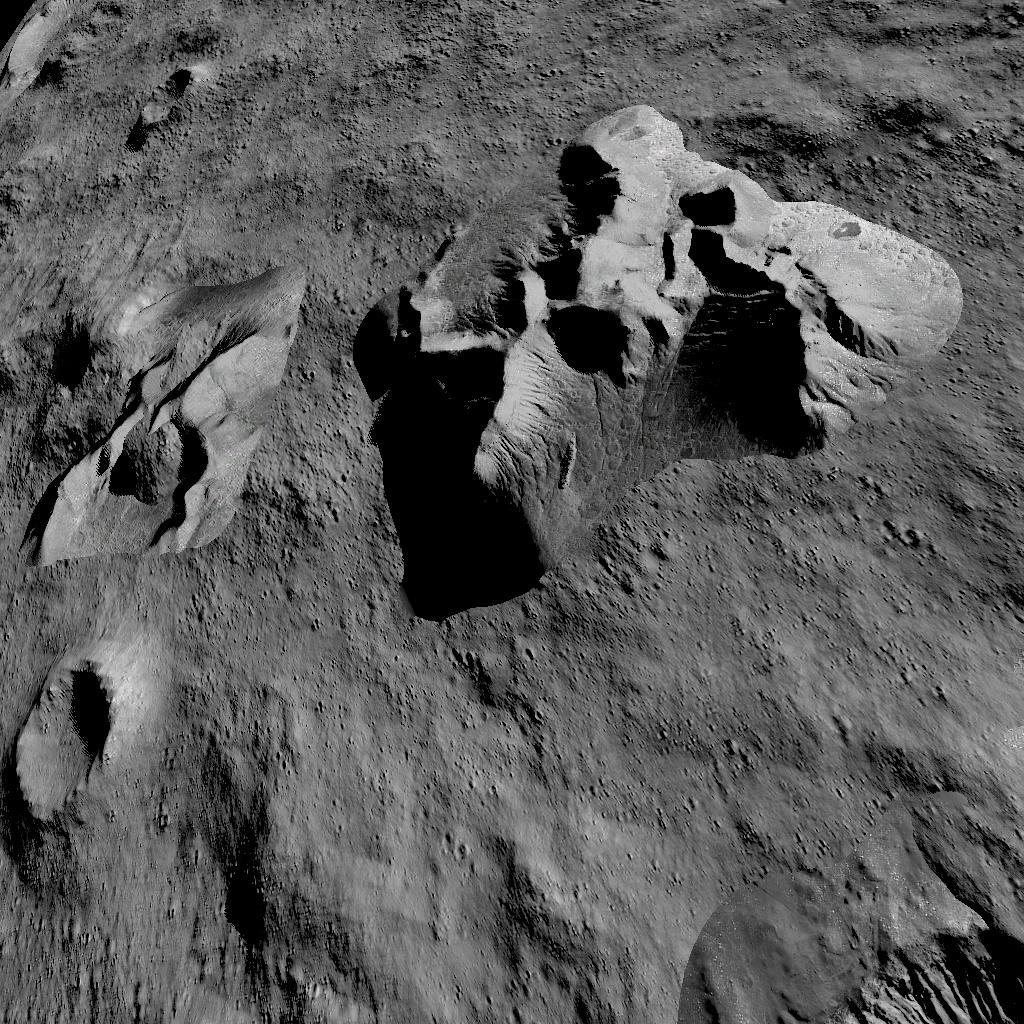Boulders: (355, 94, 980, 612)
Crater: (4, 280, 256, 580), (2, 634, 146, 853), (819, 910, 1024, 1024), (0, 0, 107, 101), (120, 62, 217, 142)
Plan surface: (168, 662, 796, 1014), (245, 0, 1024, 85), (828, 636, 1022, 886), (0, 166, 252, 274)
